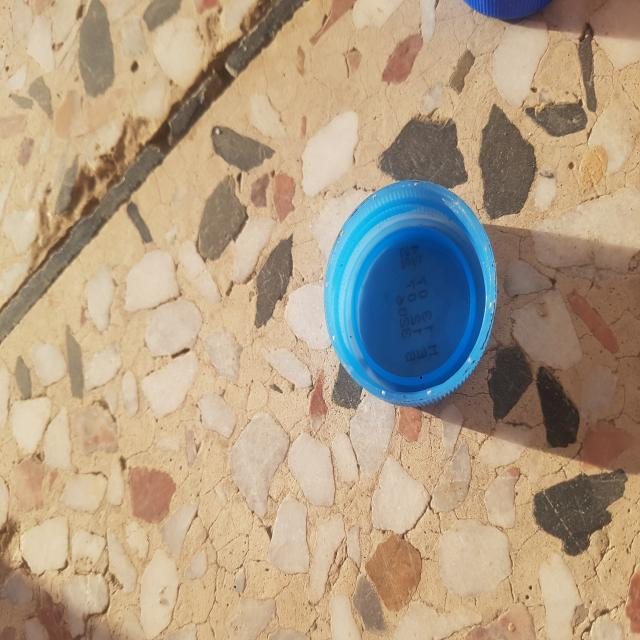general: (322, 178, 498, 408)
